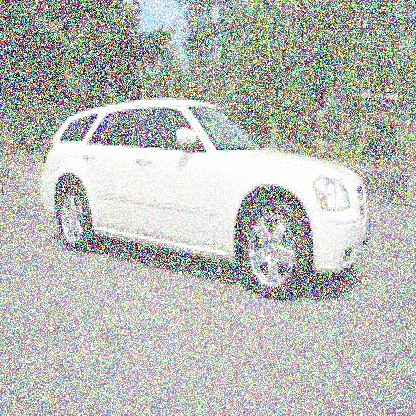Vehicle: (39, 89, 369, 302)
